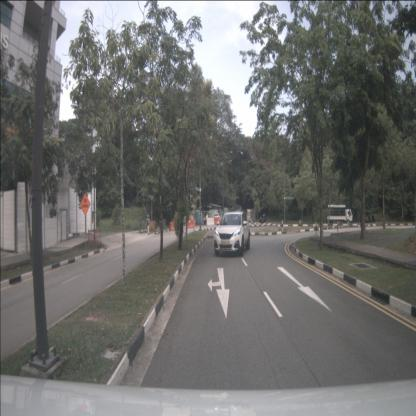barrier: (206, 217, 214, 226), (148, 221, 155, 231), (189, 219, 196, 228), (170, 221, 176, 230), (214, 218, 222, 224)
cone: (217, 217, 220, 225)
